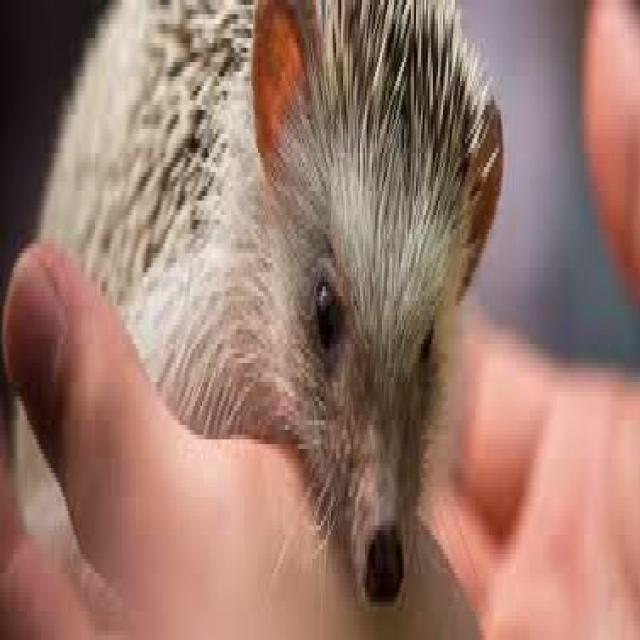hedgehog: (41, 0, 501, 602)
